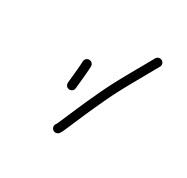i: (59, 48, 97, 96)
